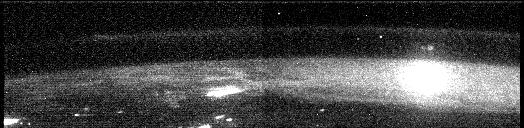positive: (419, 43, 438, 55)
